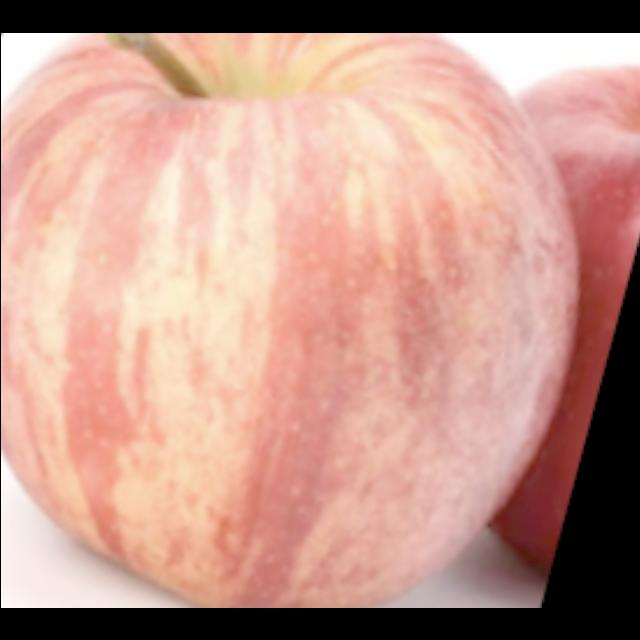Apel Segar: (0, 32, 548, 608)
